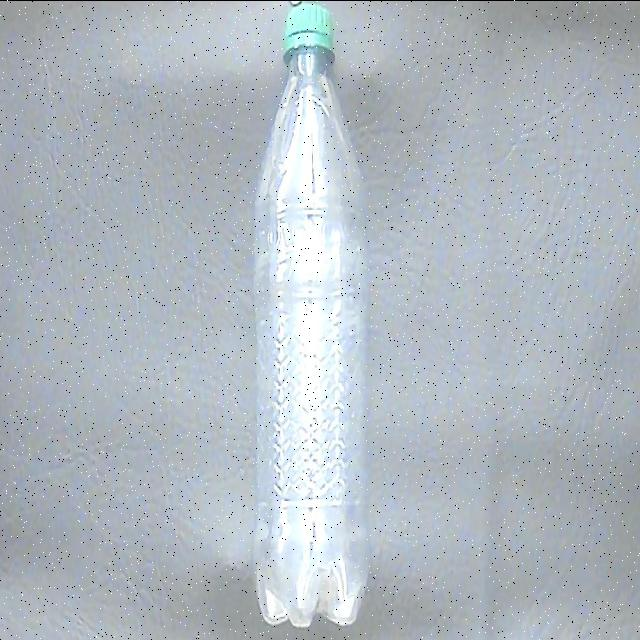plastic: (250, 1, 373, 632)
